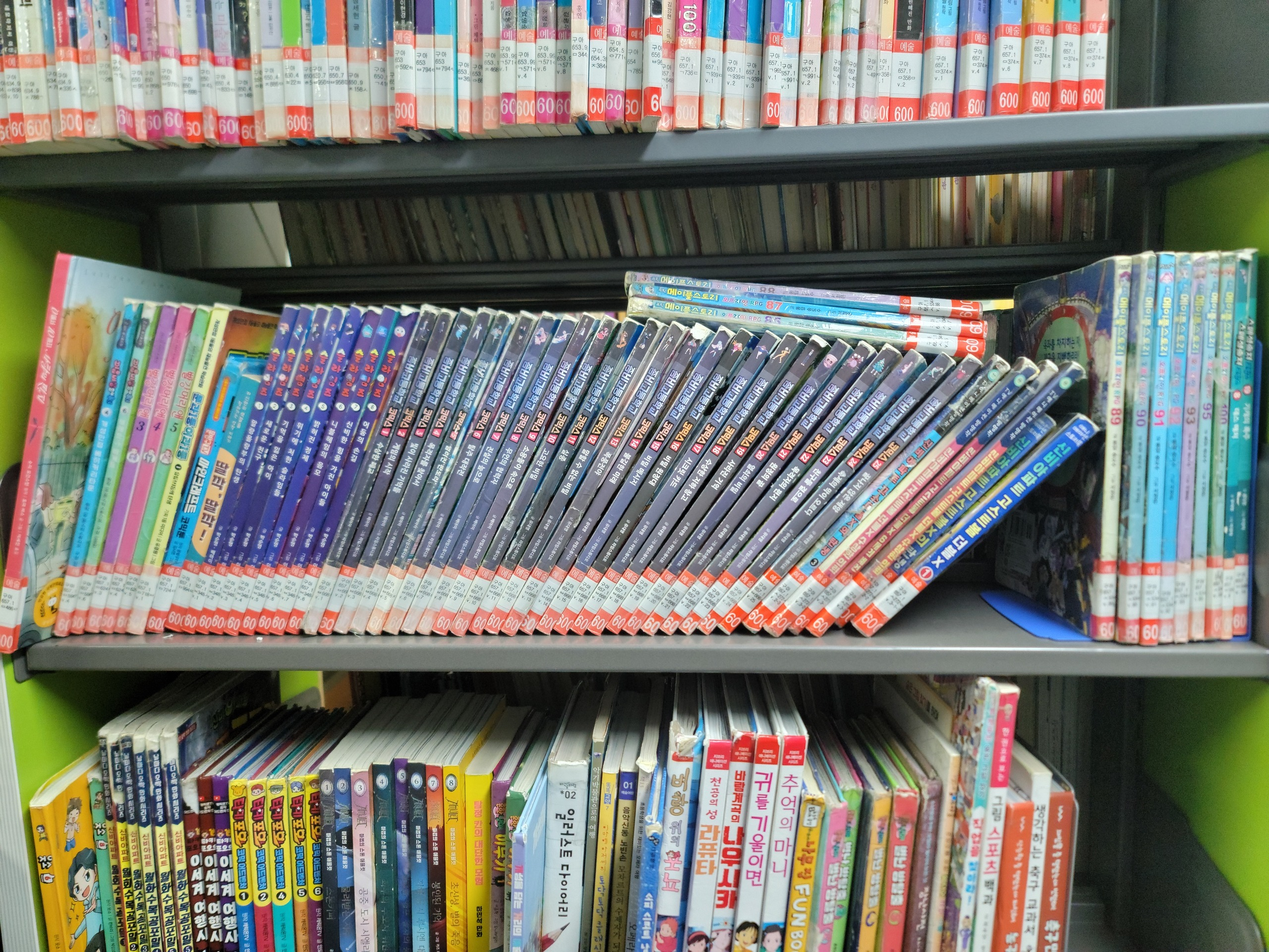book-spine: (739, 354, 1011, 626), (713, 353, 980, 625), (642, 342, 886, 637), (794, 361, 1059, 628), (639, 341, 869, 626), (834, 361, 1085, 610), (568, 346, 768, 633), (851, 413, 1098, 638), (469, 314, 640, 628), (434, 312, 599, 637), (450, 314, 619, 629), (749, 412, 988, 632), (554, 330, 731, 627), (400, 312, 558, 634), (676, 390, 889, 626), (417, 315, 577, 629), (831, 412, 1054, 632), (383, 311, 537, 629), (660, 400, 875, 626), (349, 307, 494, 635), (333, 308, 475, 635), (317, 306, 456, 635), (282, 332, 434, 631), (269, 319, 415, 630), (300, 309, 436, 631), (252, 305, 383, 638), (237, 304, 365, 638), (268, 305, 398, 633), (528, 319, 686, 587), (285, 309, 414, 634), (207, 302, 332, 637), (222, 305, 347, 638), (194, 304, 314, 637), (182, 307, 301, 635), (589, 335, 747, 579), (125, 310, 229, 635), (112, 304, 213, 635), (97, 304, 195, 634), (82, 303, 178, 636), (639, 347, 788, 560), (553, 350, 692, 577), (527, 317, 663, 549), (142, 352, 246, 635), (51, 299, 138, 637), (68, 301, 156, 635), (0, 253, 72, 653), (161, 366, 264, 634), (679, 383, 816, 567), (696, 338, 824, 506), (724, 338, 850, 504), (746, 429, 880, 581), (632, 282, 985, 337), (639, 297, 984, 352), (625, 268, 993, 319), (1094, 252, 1132, 638), (1120, 254, 1157, 641), (1156, 254, 1192, 642), (1171, 252, 1207, 636), (593, 452, 684, 602), (1140, 255, 1175, 644), (1187, 254, 1220, 641), (1219, 238, 1250, 639), (1232, 249, 1260, 639), (1208, 252, 1236, 639), (442, 310, 514, 452), (869, 352, 952, 440), (902, 371, 963, 434)
